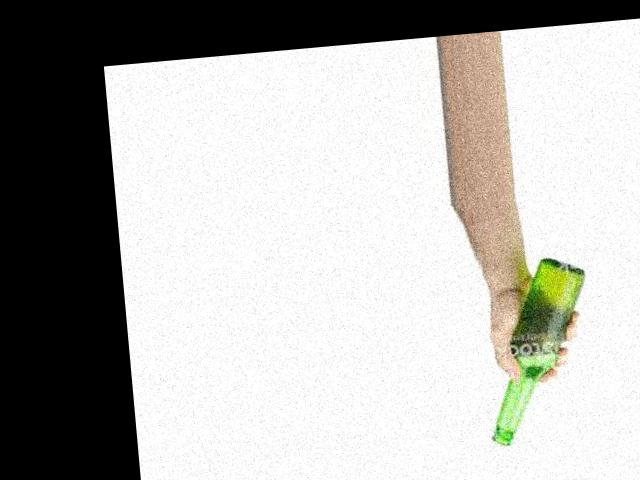beer: (475, 257, 599, 448)
